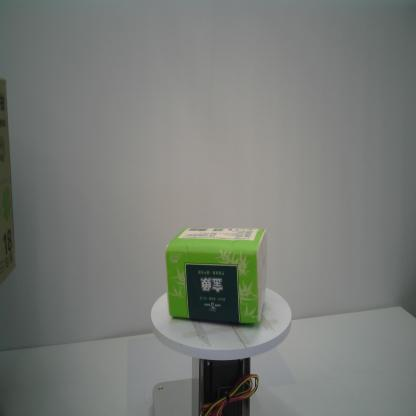Tissue: (163, 221, 270, 329)
